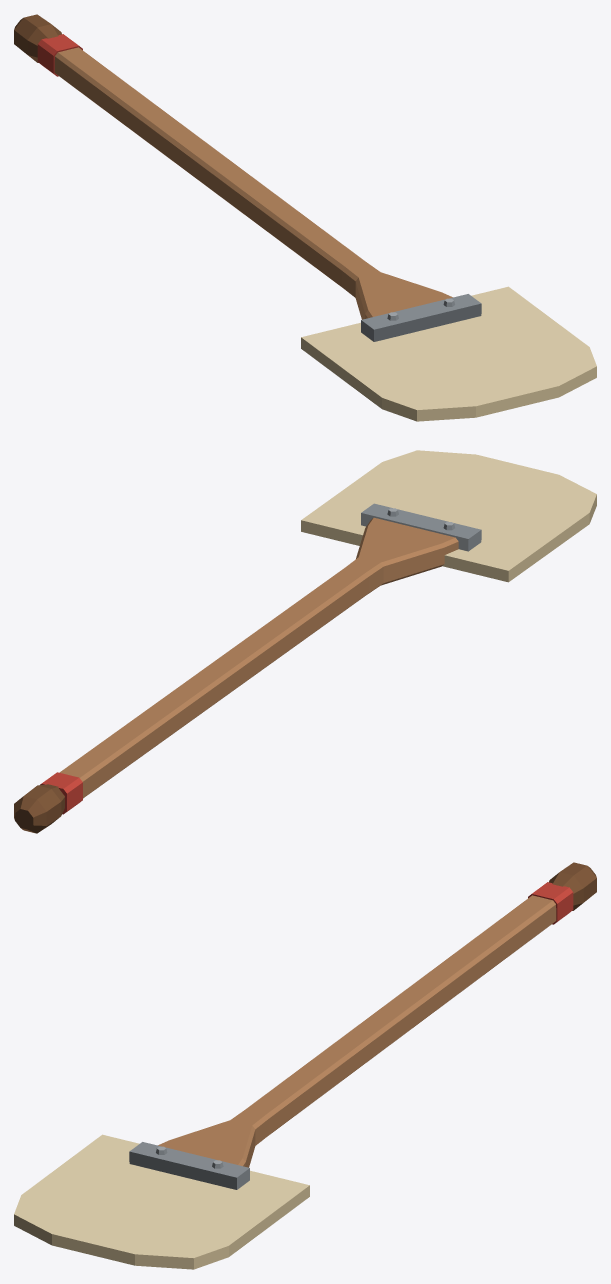
Rendered from FMS_Workshop_TOL_13.fbx.
The picture shows the model from 3 angles, top to bottom: view 1: azimuth 30°, elevation 25°; view 2: azimuth 150°, elevation 25°; view 3: azimuth 330°, elevation 25°; orthographic projection.
Visible parts, largest first — view 1: FMS_Workshop_TOL_13_Body; view 2: FMS_Workshop_TOL_13_Body; view 3: FMS_Workshop_TOL_13_Body.
Boxes of the visible parts, x1,y1,x2,y2 form: FMS_Workshop_TOL_13_Body: (14, 14, 596, 421); FMS_Workshop_TOL_13_Body: (14, 450, 596, 833); FMS_Workshop_TOL_13_Body: (14, 862, 596, 1269).
Size of the model in its own units: 0.34 by 0.0554 by 1.4.
1 material, 1 textured.
